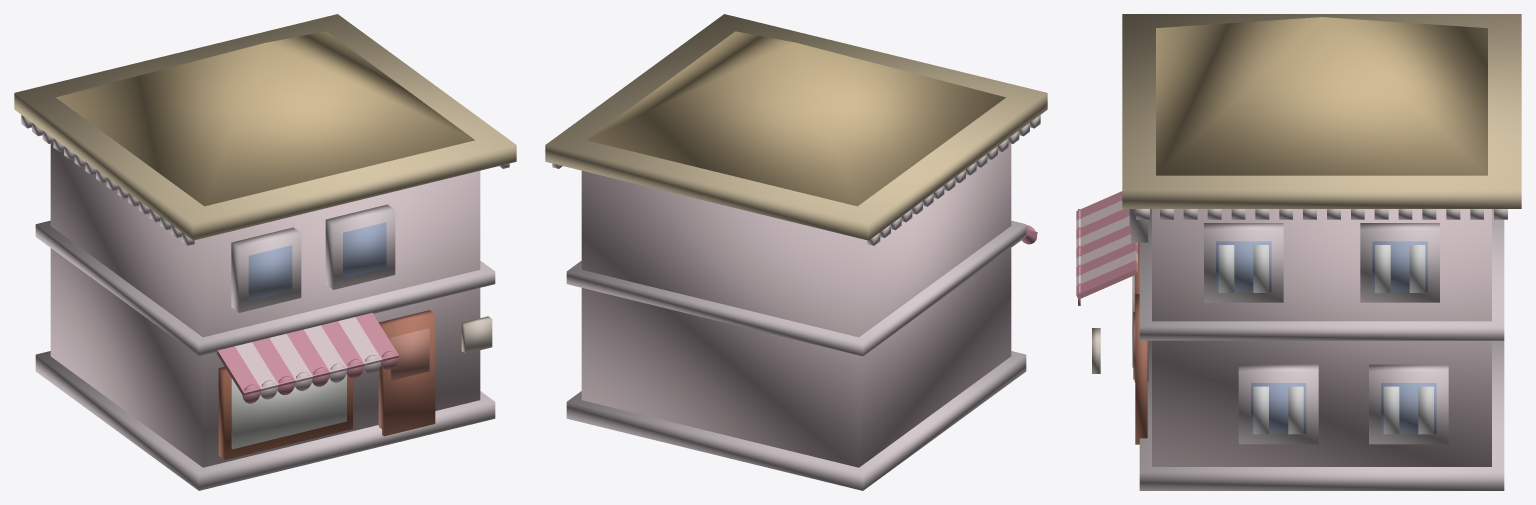
Rendered from cake.glb.
3 renders of one model, left to right at view 1: azimuth 30°, elevation 25°; view 2: azimuth 150°, elevation 25°; view 3: azimuth 270°, elevation 25°, orthographic. The views are drawn at different scales.
Parts seen in each view (by area): view 1: cake; view 2: cake; view 3: cake.
Boxes of the visible parts, x1,y1,x2,y2 form: cake: [14, 14, 516, 490]; cake: [545, 14, 1047, 490]; cake: [1076, 14, 1521, 490].
Size of the model in its own units: 2.4 by 2.5 by 2.57.
